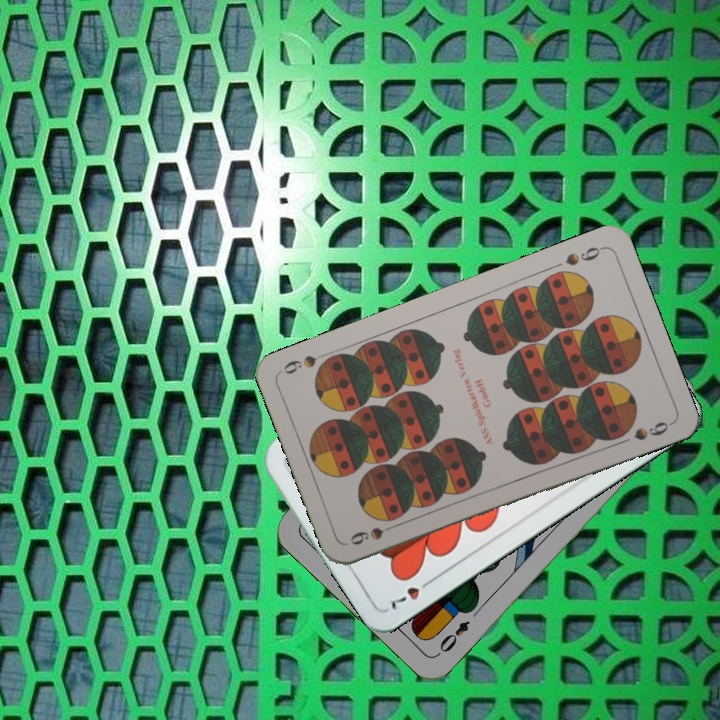EO: (433, 616, 473, 659)
H7: (386, 574, 436, 613)
S9: (345, 519, 402, 548), (561, 242, 607, 269)
